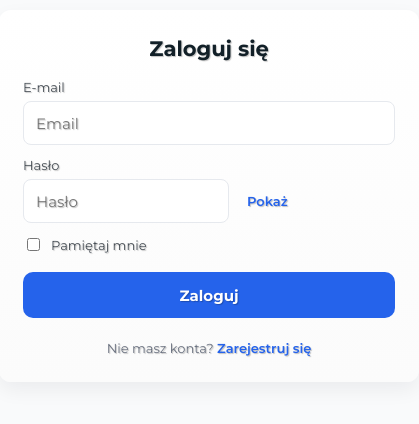
Test: Komponent LoginPage › wyświetla błąd przy nieudanym logowaniu
This screenshot has width=419, height=424.
In the field labelled "E-mail": (209, 123) [23,101,395,145], type "test@example.com"
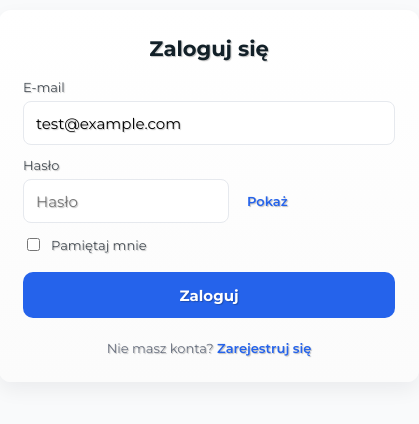
In the password field named "Pole hasło": (126, 201) [23,179,229,223], type "wrong"
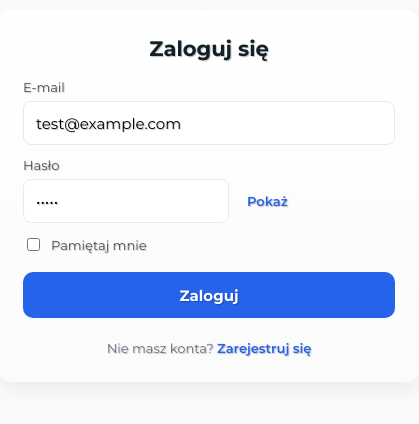
Click the button "Zaloguj": click(209, 295) [23,272,395,318]
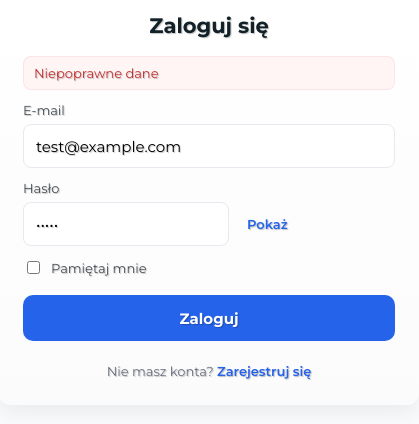
Now the text "Niepoprawne dane" is shown, box [23,56,395,90]
